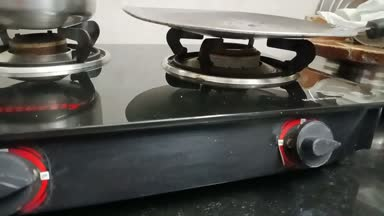flame_gas_off: (183, 34, 342, 173)
